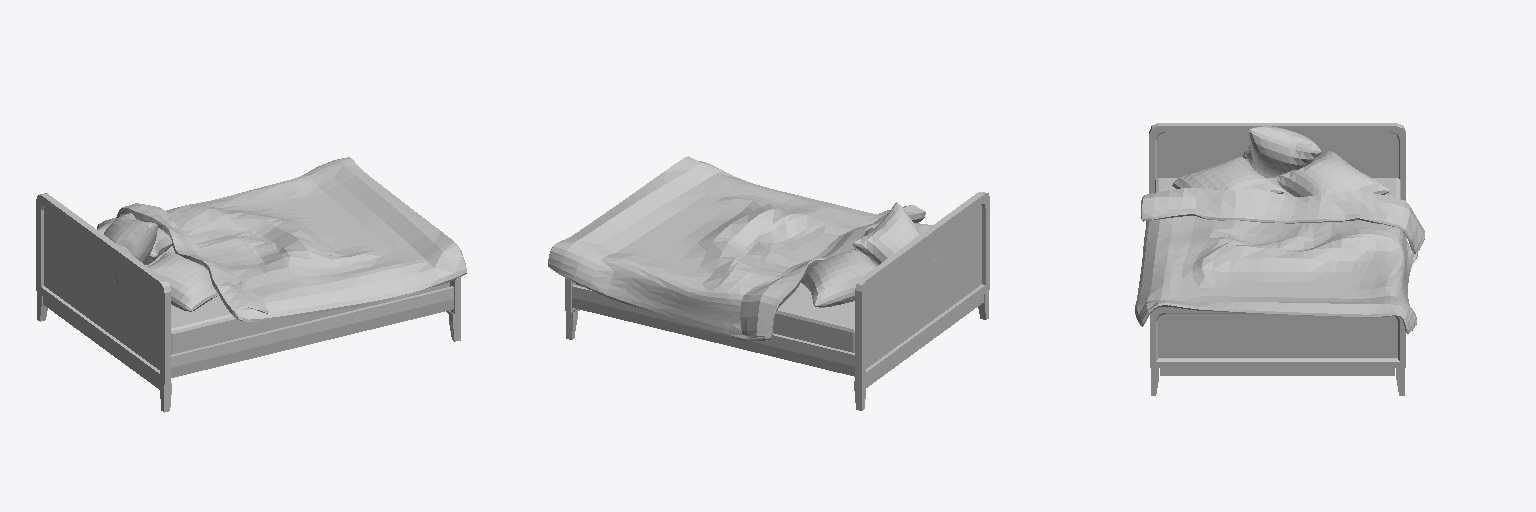
File: bed.obj
The picture shows the model from 3 angles: view 1: azimuth 30°, elevation 25°; view 2: azimuth 150°, elevation 25°; view 3: azimuth 270°, elevation 25°; orthographic projection.
Parts seen in each view (by area): view 1: Plane.001; view 2: Plane.001; view 3: Plane.001.
Boxes of the visible parts, x1,y1,x2,y2 form: Plane.001: [36, 157, 466, 412]; Plane.001: [548, 156, 989, 410]; Plane.001: [1135, 123, 1424, 395].
Size of the model in its own units: 6.13 by 2.67 by 4.92.